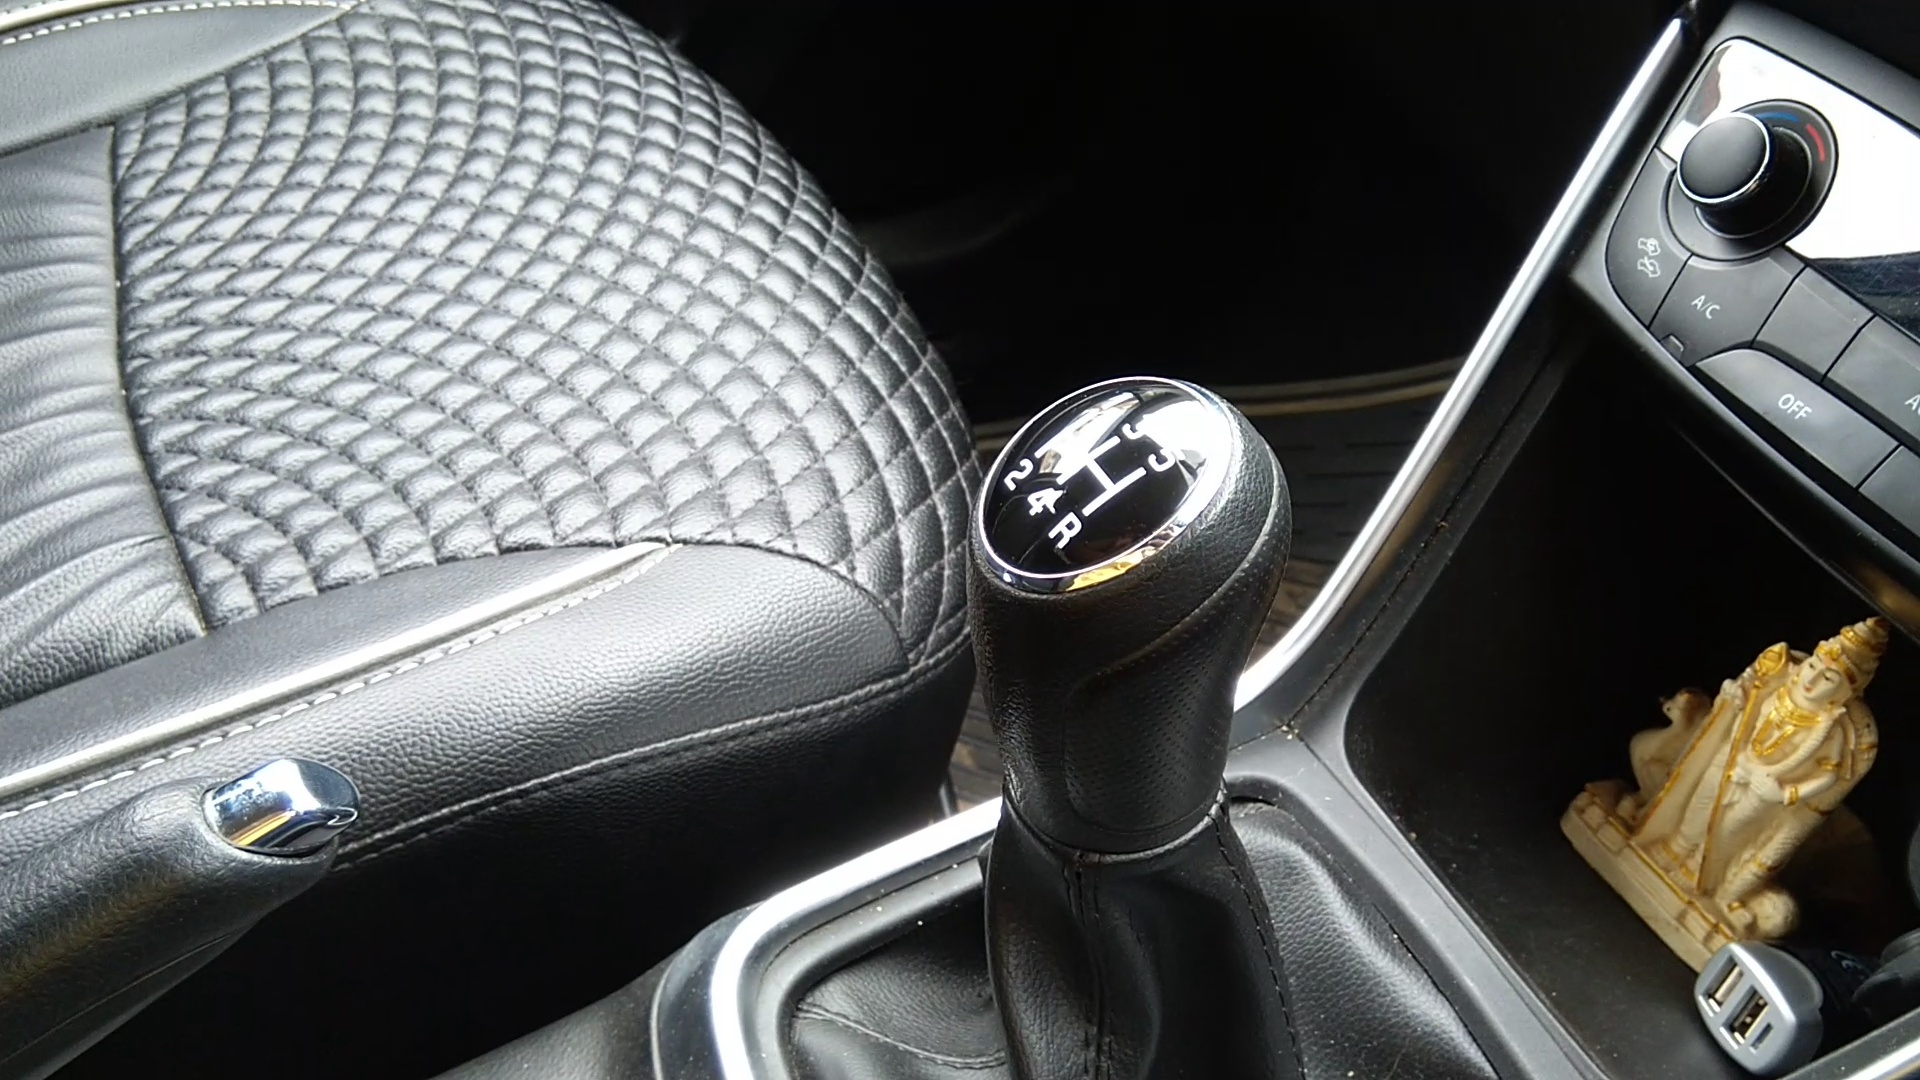manual_gear: (956, 365, 1309, 902)
